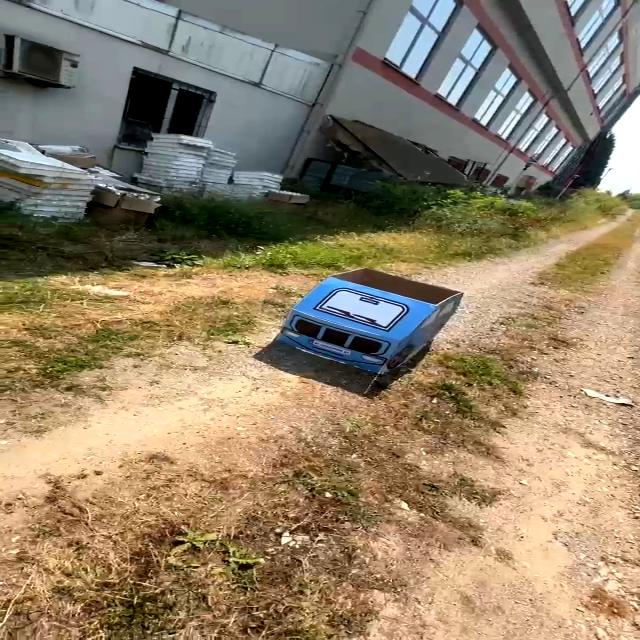blue_car: (259, 250, 487, 386)
